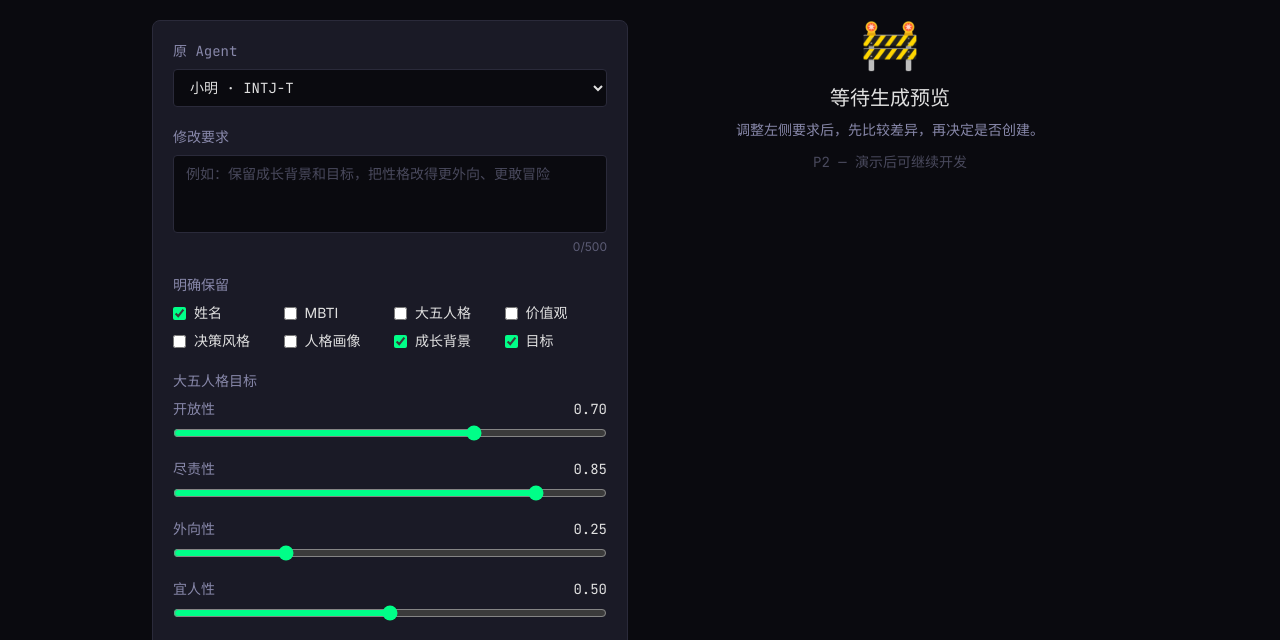
Step 39 RemixPanel › previews and creates the exact returned draft
In the text box labelled "修改要求": (390, 194) [173,155,607,233], type "更外向"
(page scrolled)
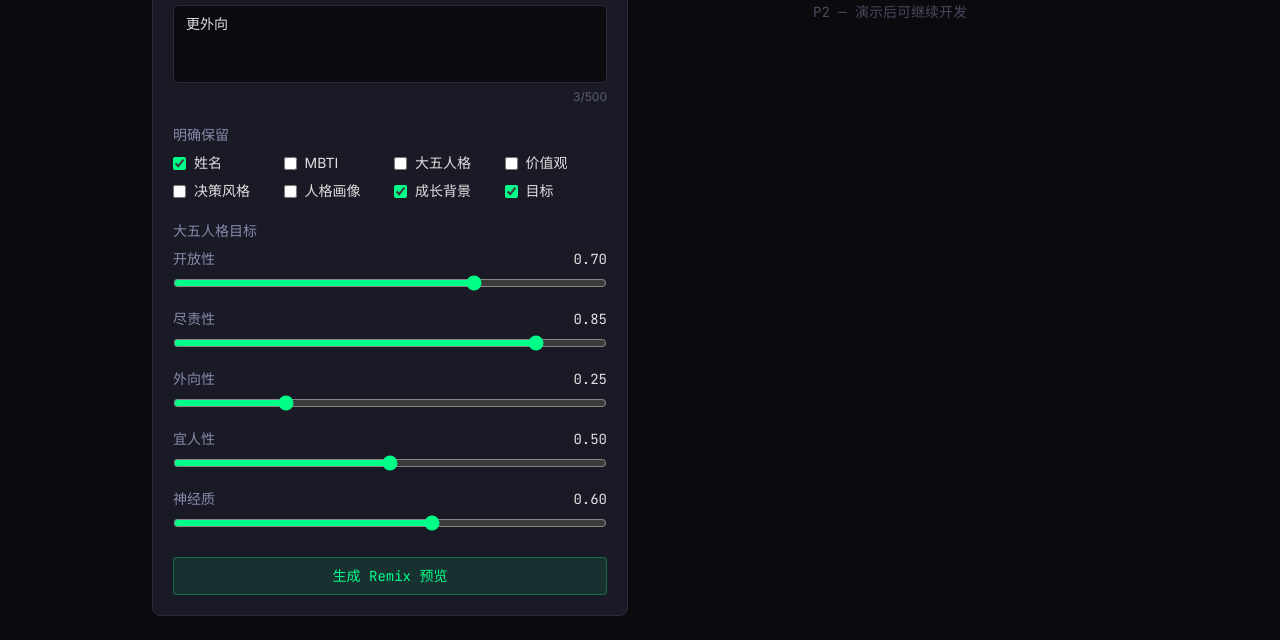
Click the button "生成 Remix 预览": (390, 576) [173,557,607,595]
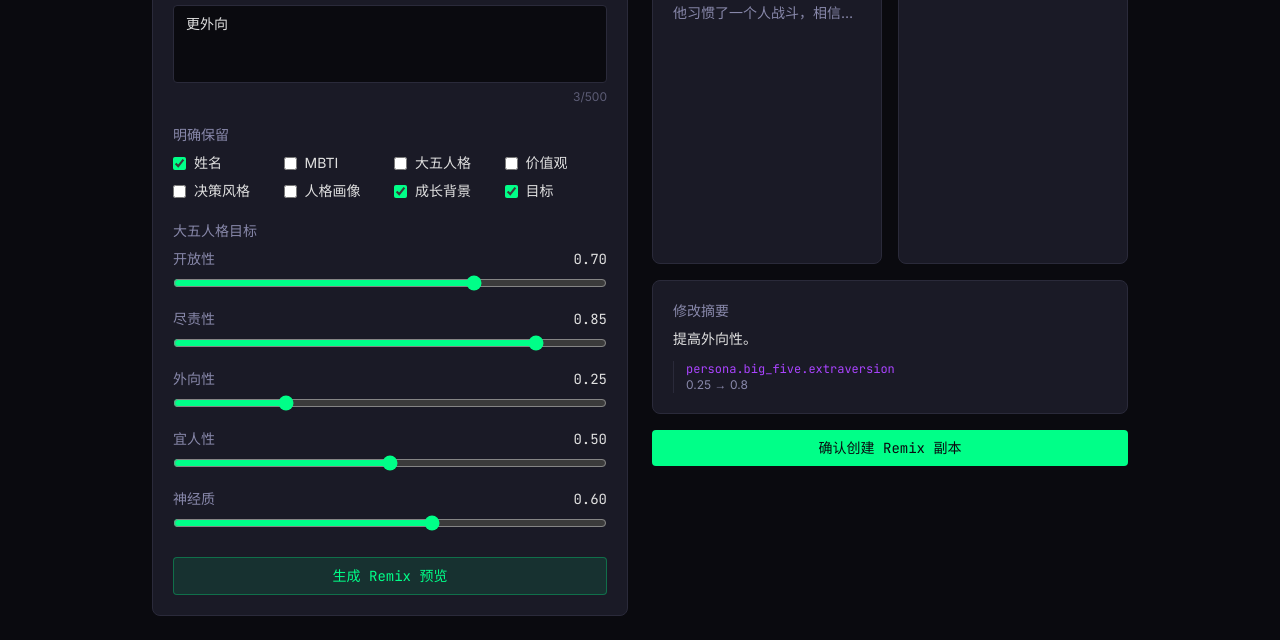
Result: the text "提高外向性。" is shown at [673,330,757,347]
Click the button "确认创建 Remix 副本": (890, 448) [652,430,1128,466]
(page scrolled)
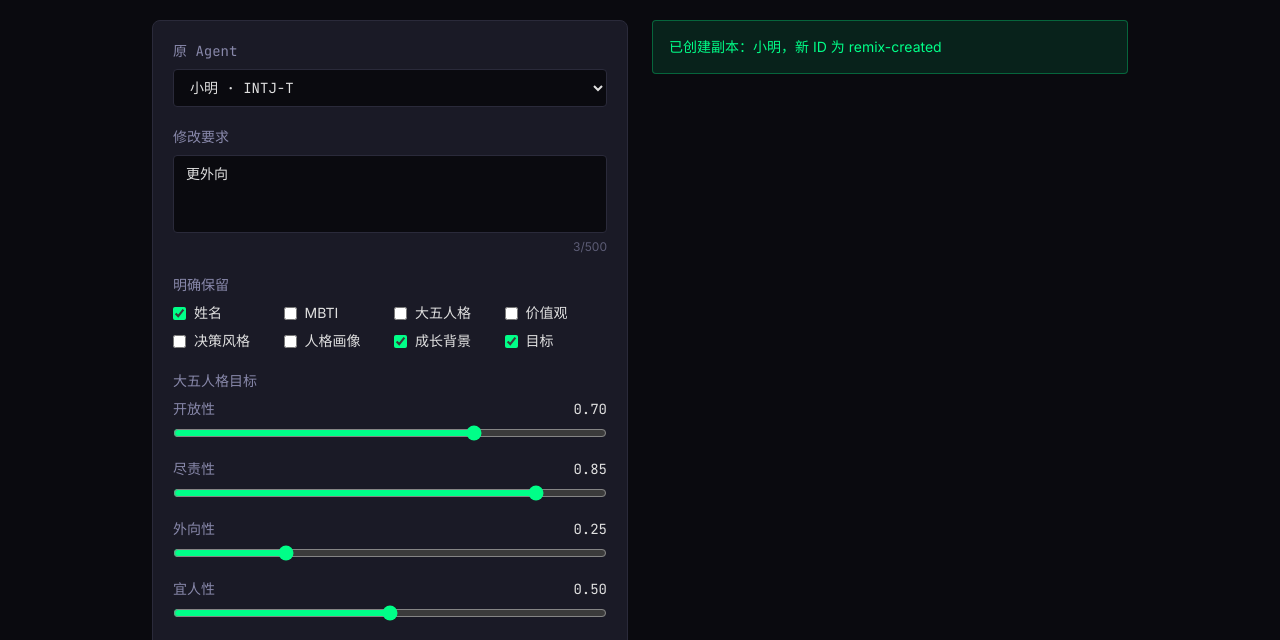
Result: the text "已创建副本：小明，新 ID 为 remix-created" is shown at [652,20,1128,74]
